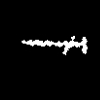double_crochet: (22, 36, 86, 54)
